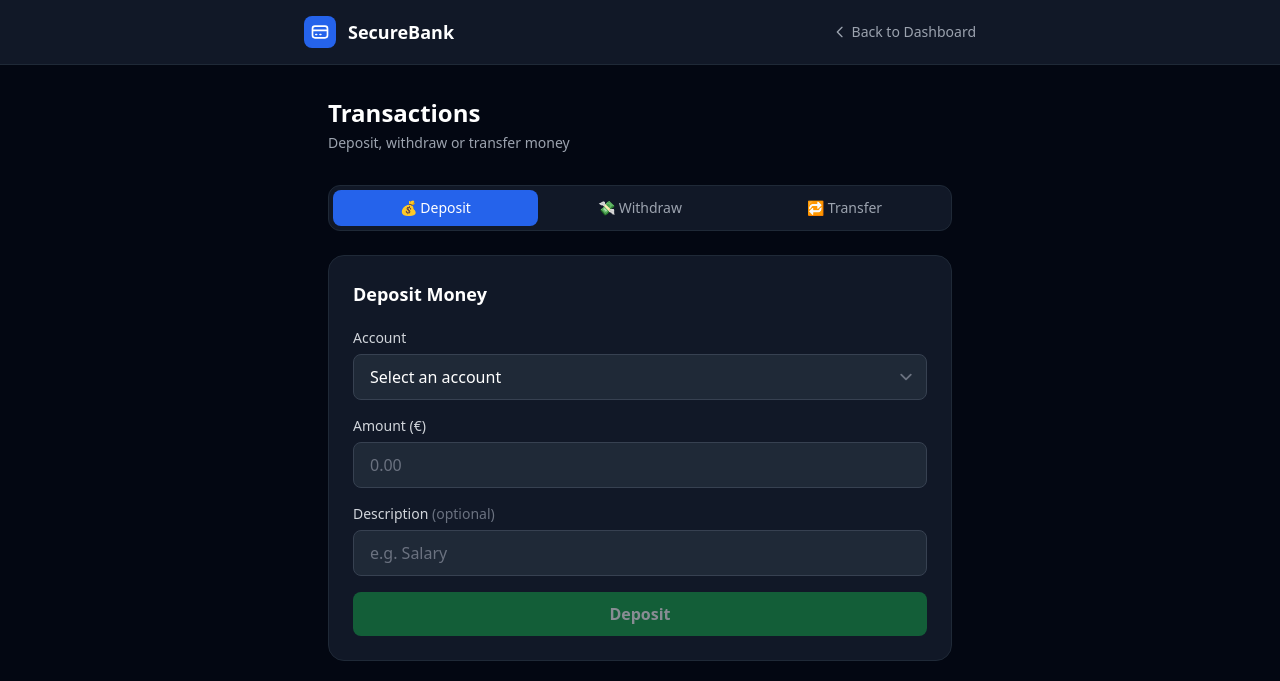
Test: Transfer page › transfers successfully and shows a success message
Click the button with test id "transfer-tab" at (845, 208), box [742,190,947,226]
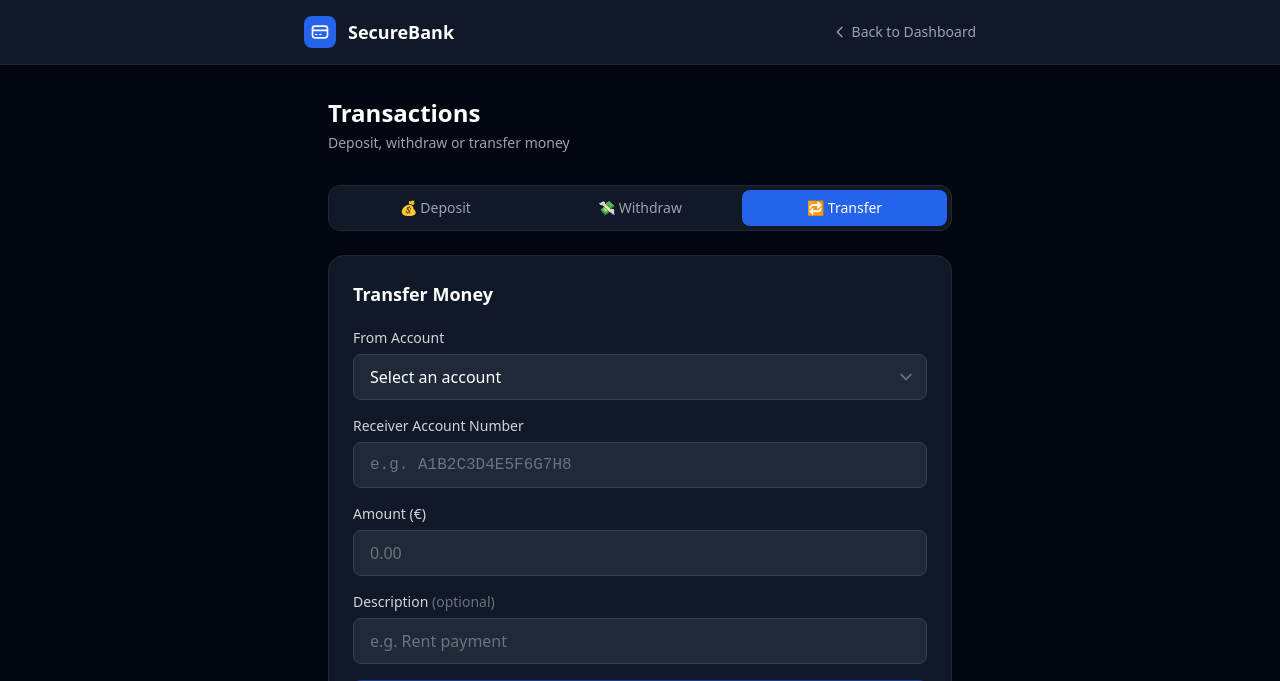
Select "CHECKING — ABCDEF1234567890 (€1,500.00)" in the dropdown with test id "transfer-account-select" at (640, 377), box [353,354,927,400]
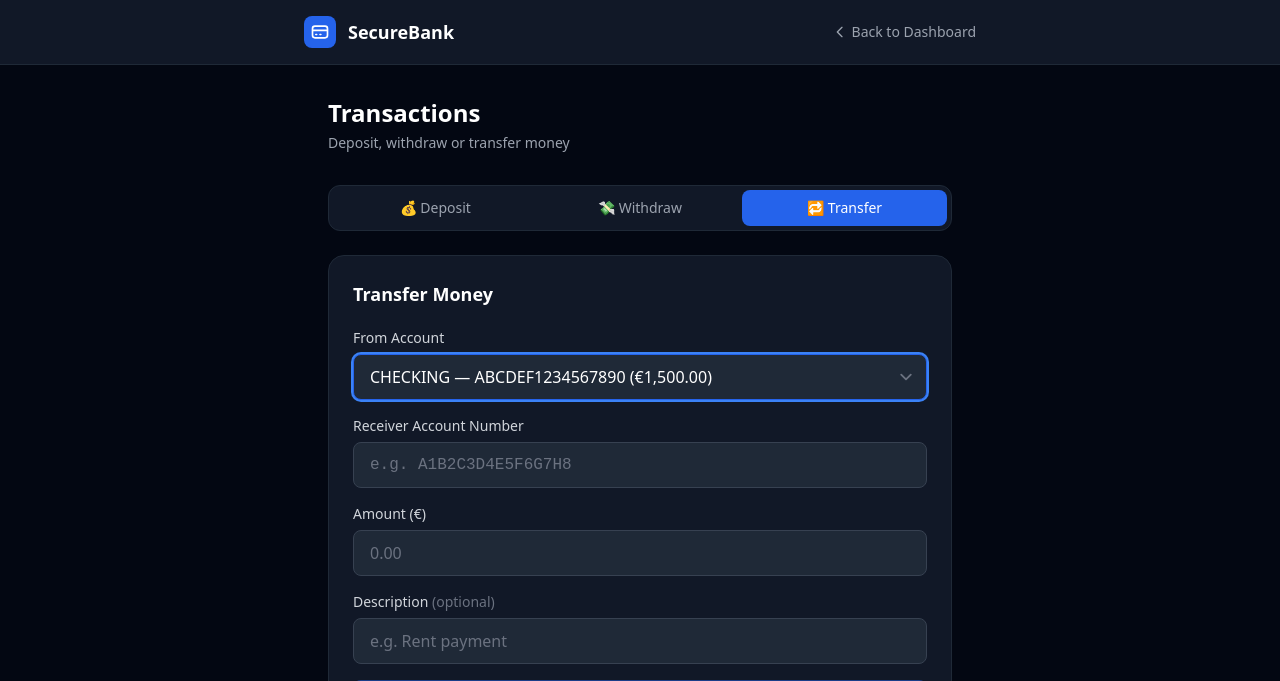
Type "1234567890ABCDEF" into the field with test id "transfer-receiver-input" at (640, 465), box [353,442,927,488]
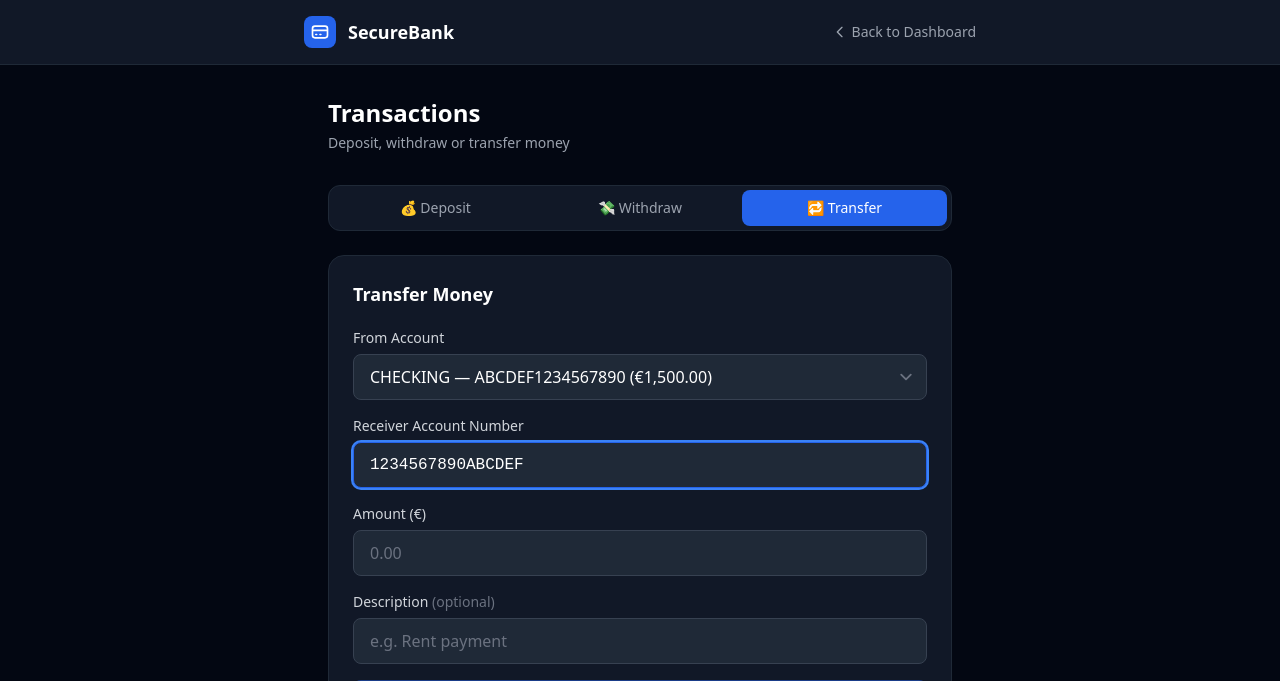
Type "200" into the number field with test id "transfer-amount-input" at (640, 553), box [353,530,927,576]
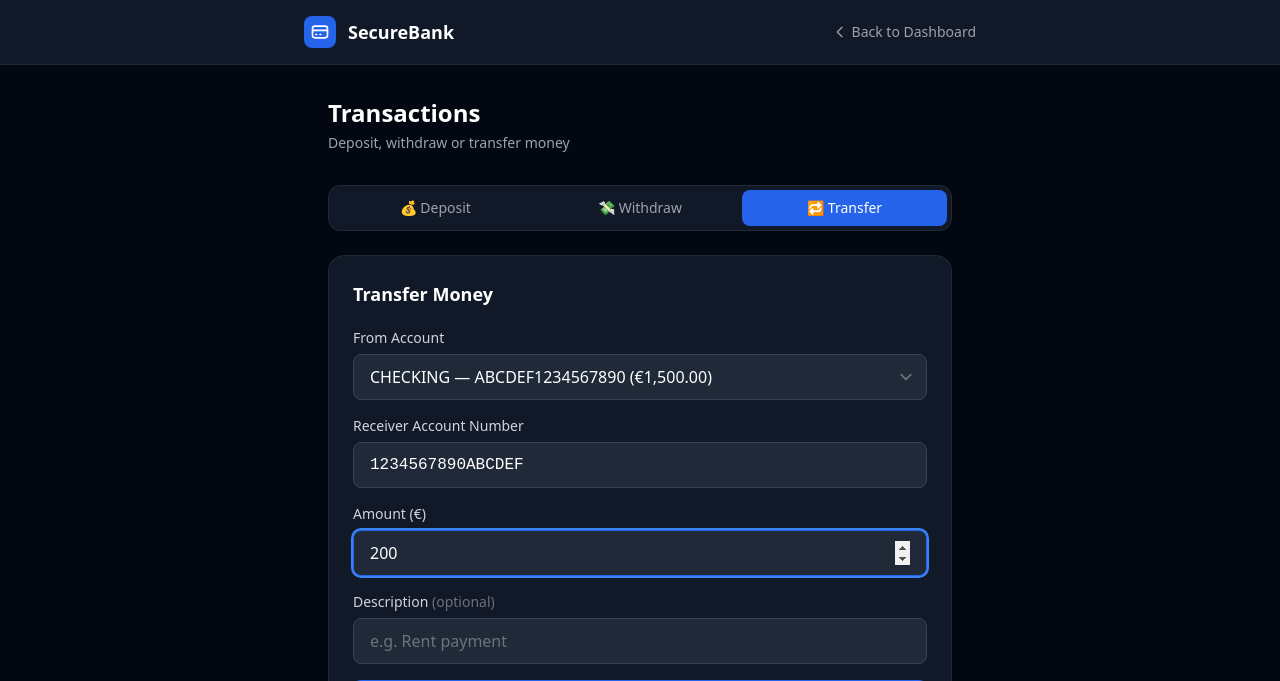
Scroll
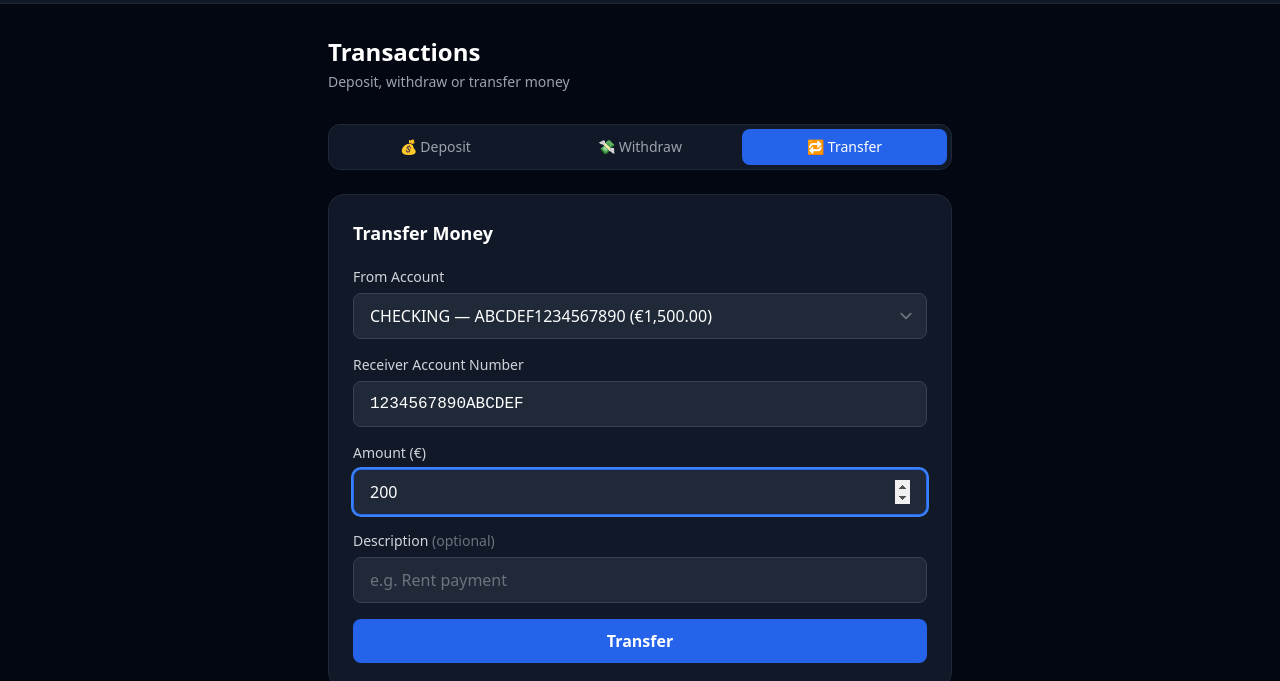
Click the button with test id "transfer-submit" at (640, 641), box [353,619,927,663]
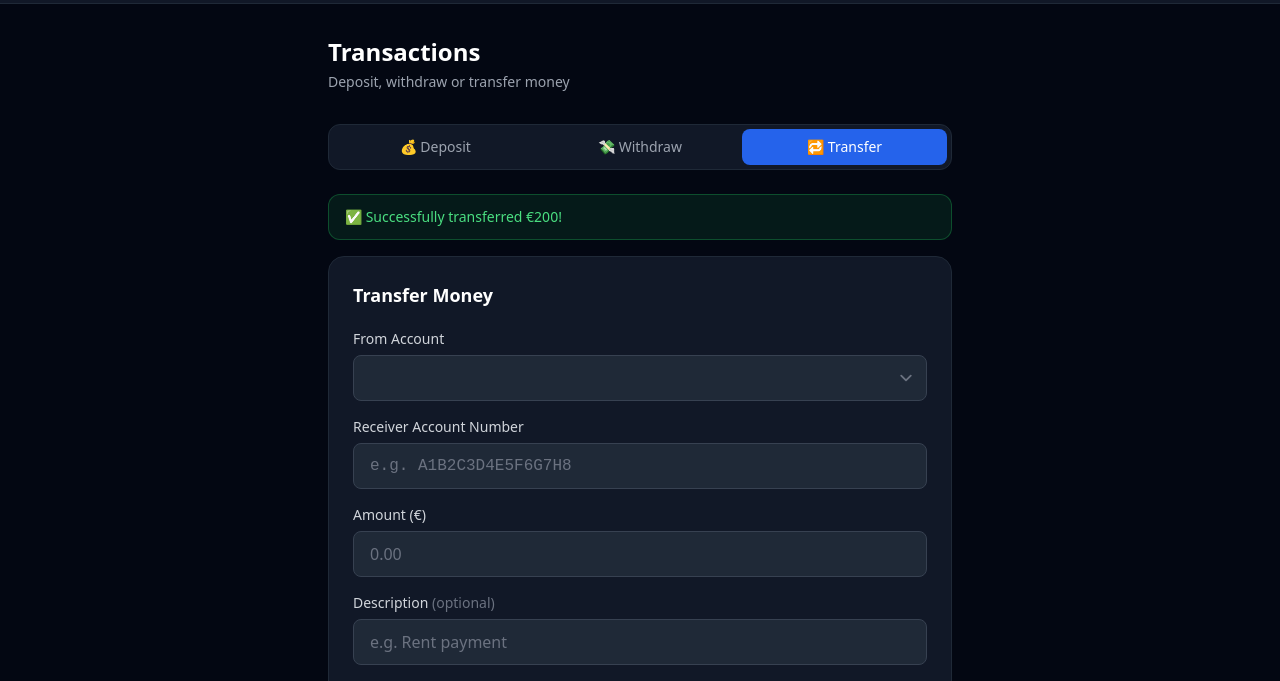
Result: the text with test id "success-message" shows "200" at [328,194,952,240]
